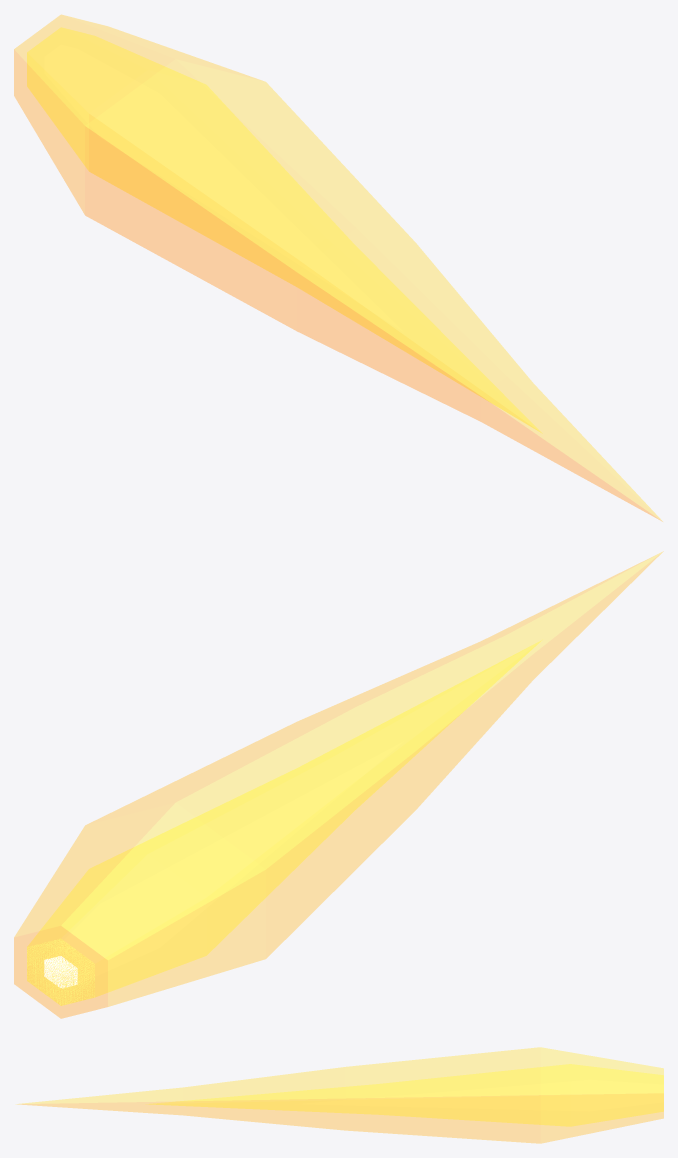
Rendered from classic-boost.glb.
3 views of the same model, one above another, from view 1: azimuth 30°, elevation 25°; view 2: azimuth 150°, elevation 25°; view 3: azimuth 270°, elevation 25° (orthographic). The views are drawn at different scales.
Parts seen in each view (by area): view 1: classic aft turbo plume; view 2: classic aft turbo plume; view 3: classic aft turbo plume.
Part boxes in pixels (x1,y1,x2,y2): classic aft turbo plume: (14,14,662,521); classic aft turbo plume: (14,551,663,1018); classic aft turbo plume: (17,1047,663,1143).
Size of the model in its own units: 0.3291 by 0.3116 by 1.9.
